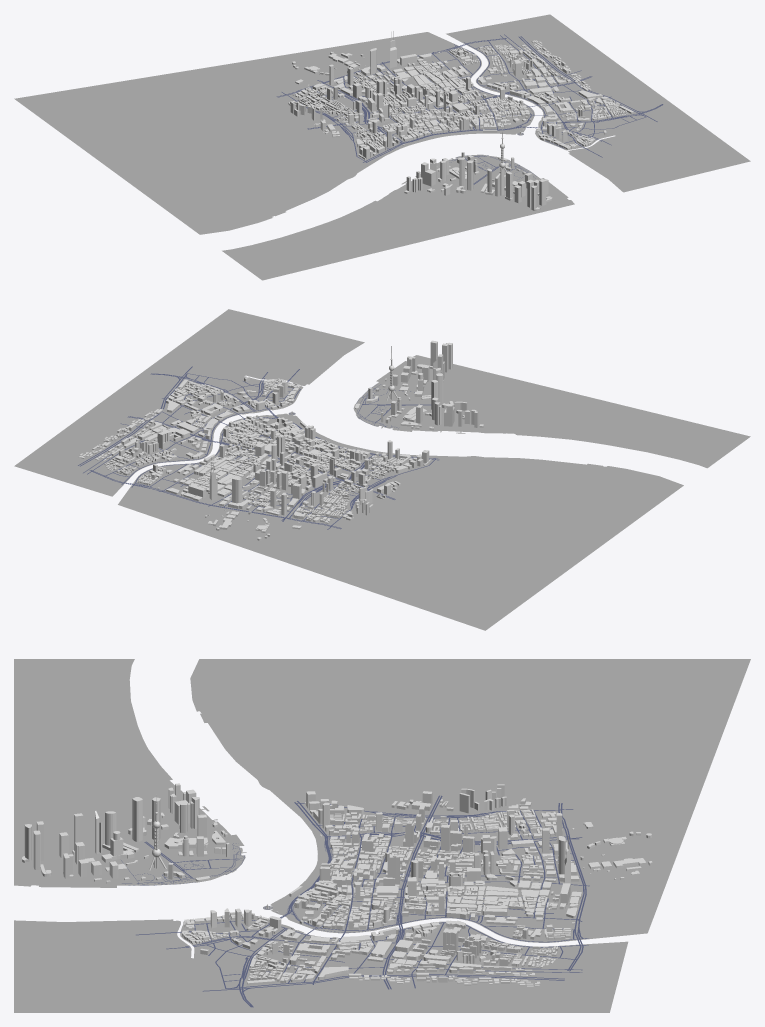
File: city.glb
The picture shows the model from 3 angles, top to bottom: view 1: azimuth 30°, elevation 25°; view 2: azimuth 150°, elevation 25°; view 3: azimuth 270°, elevation 25°; orthographic projection. The views are drawn at different scales.
Parts seen in each view (by area): view 1: LANDMASS, CITY_UNTRIANGULATED, ROADS; view 2: LANDMASS, CITY_UNTRIANGULATED, ROADS; view 3: LANDMASS, CITY_UNTRIANGULATED, ROADS.
Part boxes in pixels (bbox=[...]): LANDMASS: bbox=[14, 14, 750, 280]; CITY_UNTRIANGULATED: bbox=[288, 31, 634, 210]; ROADS: bbox=[276, 34, 663, 184]; LANDMASS: bbox=[14, 309, 750, 630]; CITY_UNTRIANGULATED: bbox=[79, 340, 483, 540]; ROADS: bbox=[78, 366, 439, 529]; LANDMASS: bbox=[14, 659, 750, 1012]; CITY_UNTRIANGULATED: bbox=[22, 783, 652, 986]; ROADS: bbox=[121, 795, 589, 1007].
Size of the model in its own units: 102 by 10.17 by 90.05.
